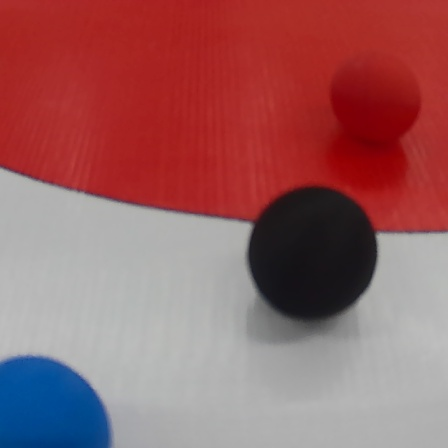black: (248, 180, 378, 326)
blue: (1, 345, 112, 448)
red: (331, 51, 424, 148)
red_base: (1, 0, 448, 234)
